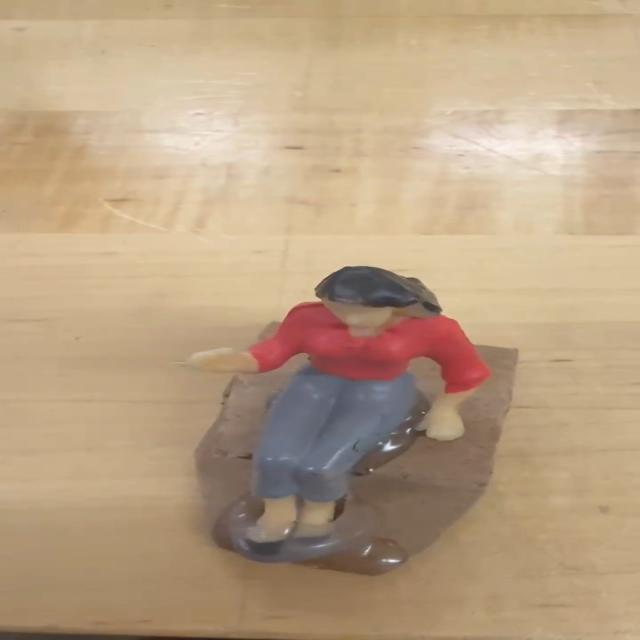Authorized: (178, 258, 492, 557)
